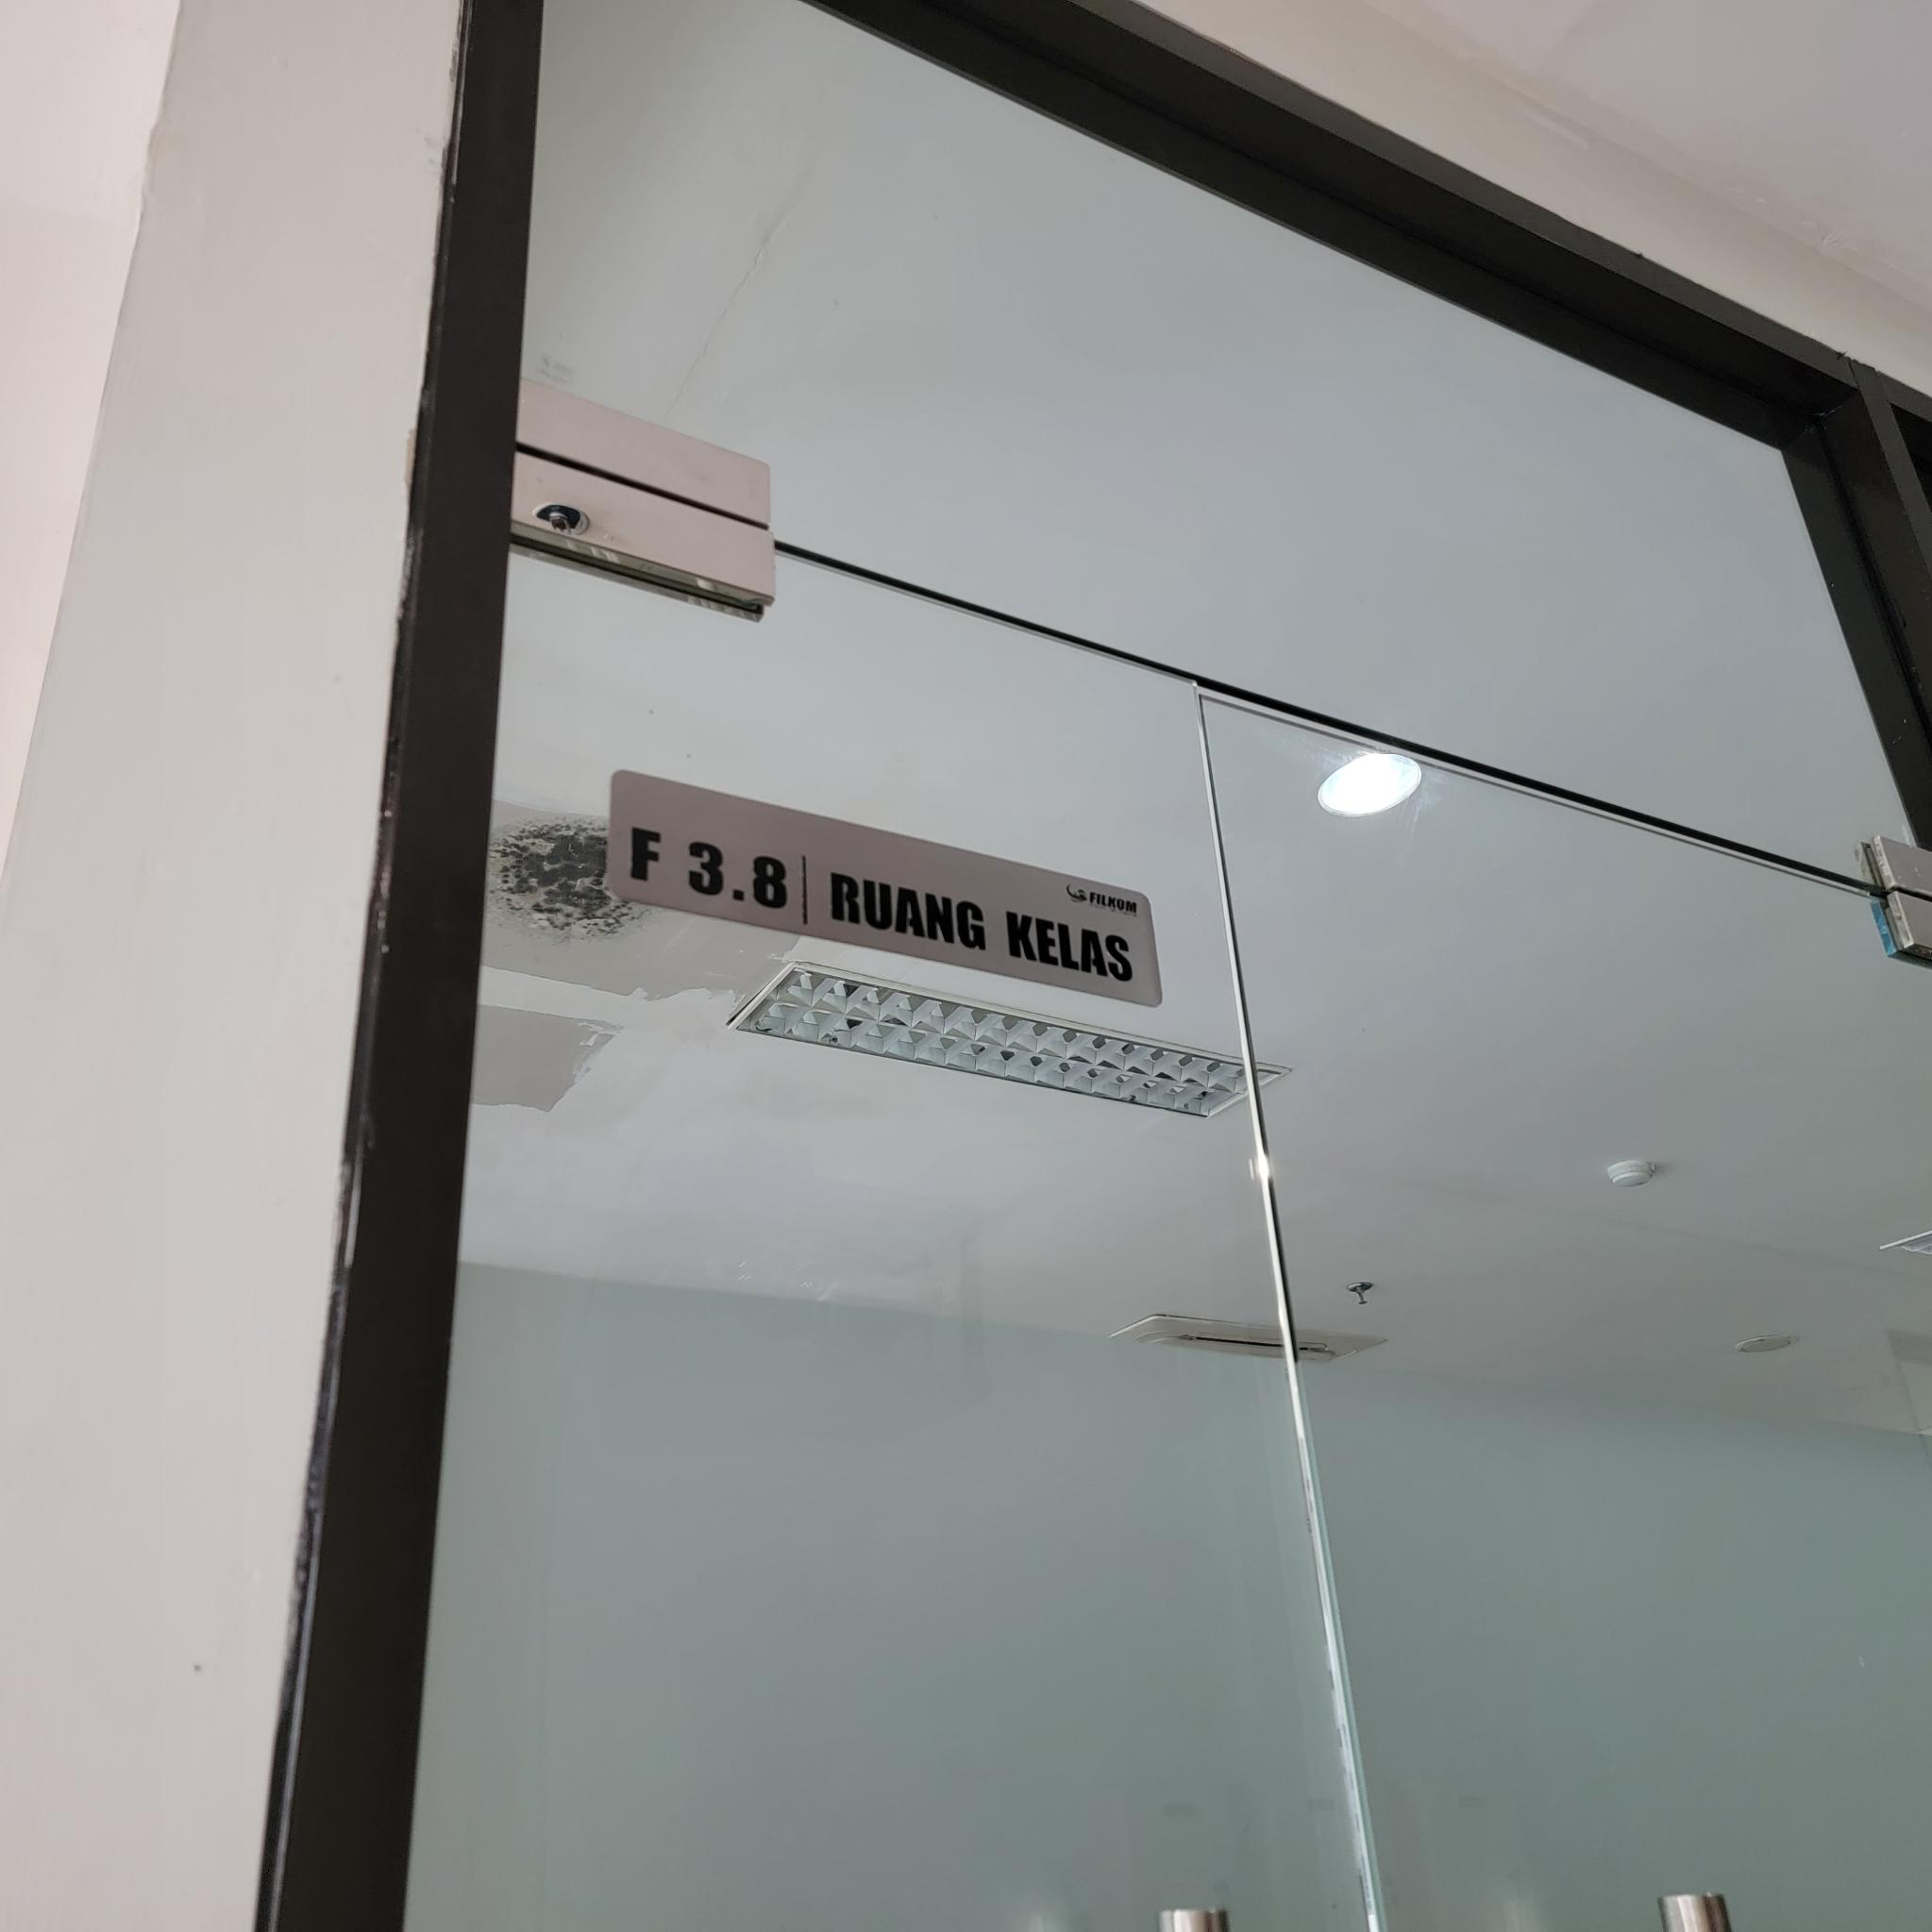plate: (607, 770, 1161, 1007)
